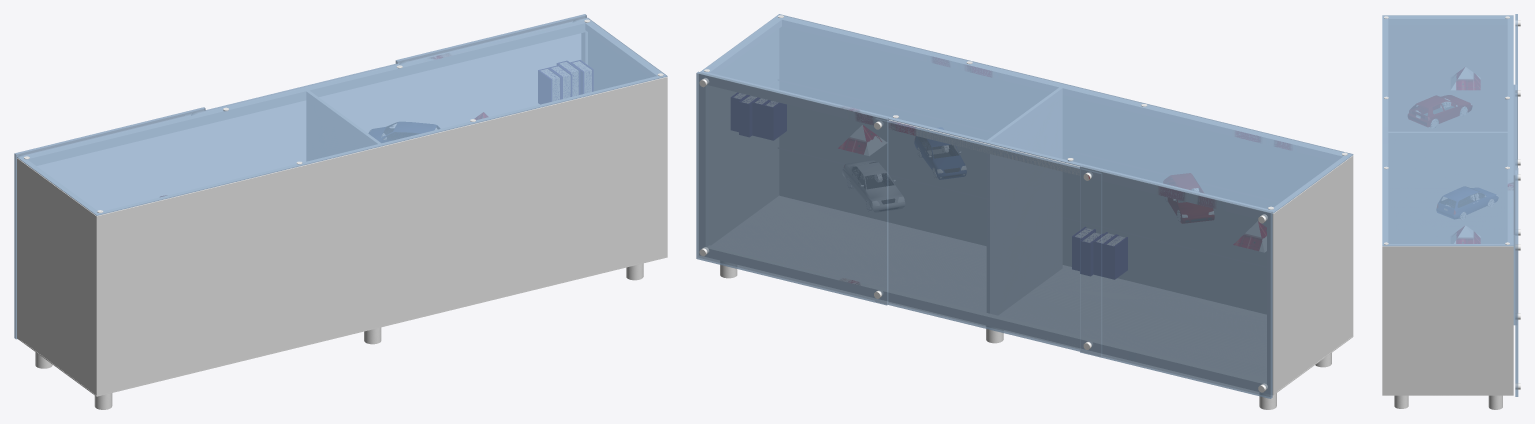
3 views of the same model, side by side, from view 1: azimuth 30°, elevation 25°; view 2: azimuth 150°, elevation 25°; view 3: azimuth 270°, elevation 25° (orthographic). The views are drawn at different scales.
Visible parts, largest first — view 1: mesh52_mesh52-geometry, mesh4_mesh4-geometry, mesh45_mesh45-geometry, mesh2_mesh2-geometry, mesh3_mesh3-geometry; view 2: mesh52_mesh52-geometry, mesh4_mesh4-geometry, mesh1_mesh1-geometry, mesh3_mesh3-geometry, mesh2_mesh2-geometry, mesh45_mesh45-geometry, mesh50_mesh50-geometry, mesh47_mesh47-geometry, mesh40_mesh40-geometry, mesh21_mesh21-geometry; view 3: mesh52_mesh52-geometry, mesh4_mesh4-geometry, mesh1_mesh1-geometry, mesh3_mesh3-geometry, mesh47_mesh47-geometry, mesh21_mesh21-geometry, mesh40_mesh40-geometry, mesh2_mesh2-geometry, mesh34_mesh34-geometry, mesh16_mesh16-geometry.
Boxes of the visible parts, x1,y1,x2,y2 form: mesh52_mesh52-geometry: (17, 20, 667, 409); mesh4_mesh4-geometry: (17, 17, 667, 215); mesh45_mesh45-geometry: (538, 60, 592, 103); mesh2_mesh2-geometry: (14, 107, 205, 339); mesh3_mesh3-geometry: (395, 14, 586, 63); mesh52_mesh52-geometry: (699, 17, 1353, 409); mesh4_mesh4-geometry: (700, 14, 1353, 213); mesh1_mesh1-geometry: (875, 118, 1101, 356); mesh3_mesh3-geometry: (696, 71, 888, 305); mesh2_mesh2-geometry: (1080, 165, 1272, 398); mesh45_mesh45-geometry: (731, 93, 1127, 278); mesh50_mesh50-geometry: (843, 160, 904, 212); mesh47_mesh47-geometry: (839, 125, 1266, 251); mesh40_mesh40-geometry: (915, 136, 951, 179); mesh21_mesh21-geometry: (1163, 174, 1197, 222); mesh52_mesh52-geometry: (1382, 17, 1513, 409); mesh4_mesh4-geometry: (1382, 15, 1513, 246); mesh1_mesh1-geometry: (1513, 84, 1517, 325); mesh3_mesh3-geometry: (1515, 168, 1520, 396); mesh47_mesh47-geometry: (1451, 67, 1479, 243); mesh21_mesh21-geometry: (1418, 98, 1471, 126); mesh40_mesh40-geometry: (1446, 189, 1497, 218); mesh2_mesh2-geometry: (1515, 14, 1520, 235); mesh34_mesh34-geometry: (1437, 187, 1484, 214); mesh16_mesh16-geometry: (1408, 95, 1458, 121).
Size of the model in its own units: 0.9193 by 0.3166 by 0.2337.
